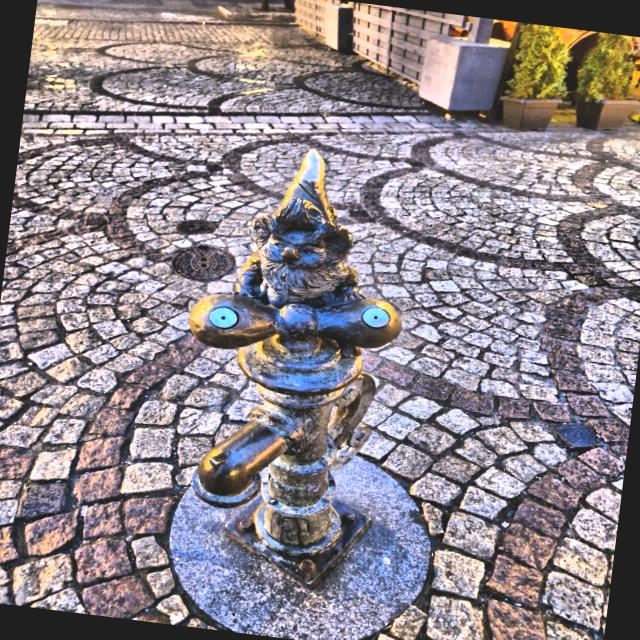Orzezwiacz: (188, 150, 402, 560)
